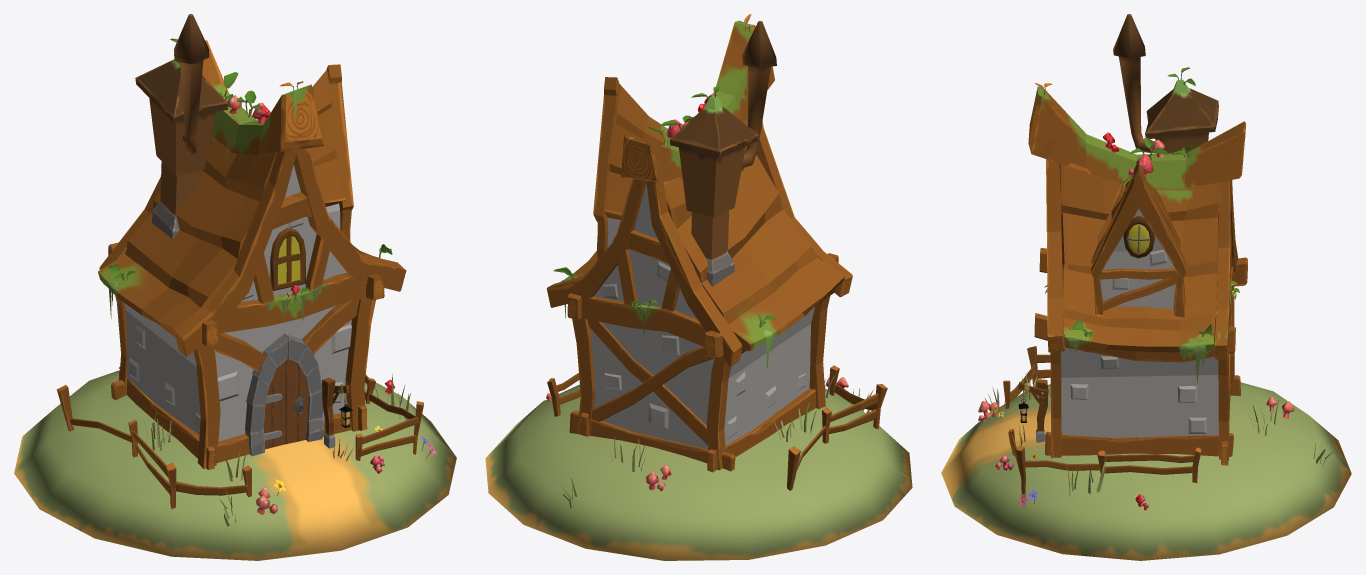
The model's file is Stylized_Cottage.glb.
The picture shows the model from 3 angles, left to right: view 1: azimuth 30°, elevation 25°; view 2: azimuth 150°, elevation 25°; view 3: azimuth 270°, elevation 25°; orthographic projection. The views are drawn at different scales.
Parts seen in each view (by area): view 1: unnamed; view 2: unnamed; view 3: unnamed.
Boxes of the visible parts, box(x1,y1,x2,y2) form: unnamed: box(14, 14, 456, 560); unnamed: box(485, 14, 912, 560); unnamed: box(941, 14, 1351, 560).
Size of the model in its own units: 89.49 by 105 by 89.49.
1 material, 1 textured.
